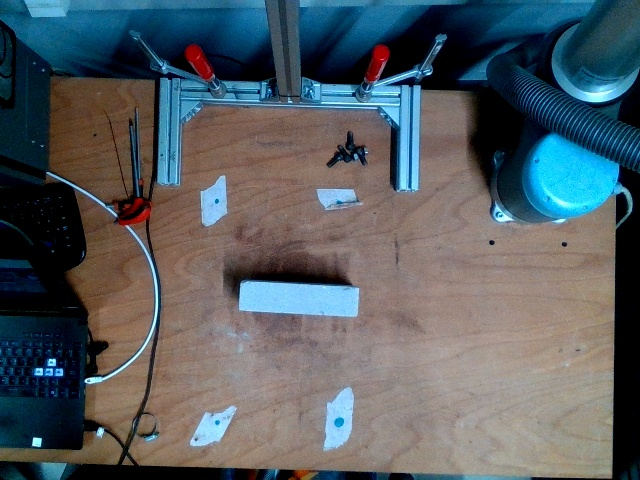brick-side: (238, 280, 358, 318)
